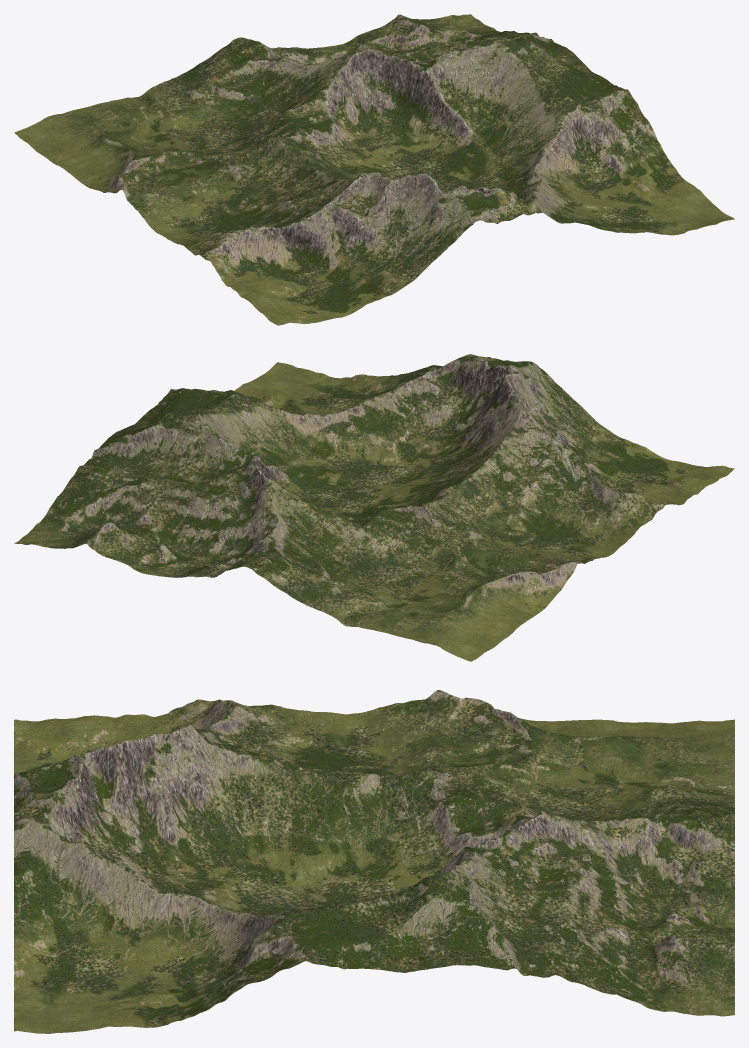
File: terraintest.glb
3 renders of one model, top to bottom at view 1: azimuth 30°, elevation 25°; view 2: azimuth 150°, elevation 25°; view 3: azimuth 270°, elevation 25°, orthographic. The views are drawn at different scales.
Visible parts, largest first — view 1: Object_2; view 2: Object_2; view 3: Object_2.
Boxes of the visible parts, x1=… form: Object_2: x1=14, y1=14, x2=734, y2=325; Object_2: x1=14, y1=354, x2=734, y2=661; Object_2: x1=14, y1=690, x2=734, y2=1033.
Size of the model in its own units: 1000 by 177 by 1000.
1 material, 1 textured.
